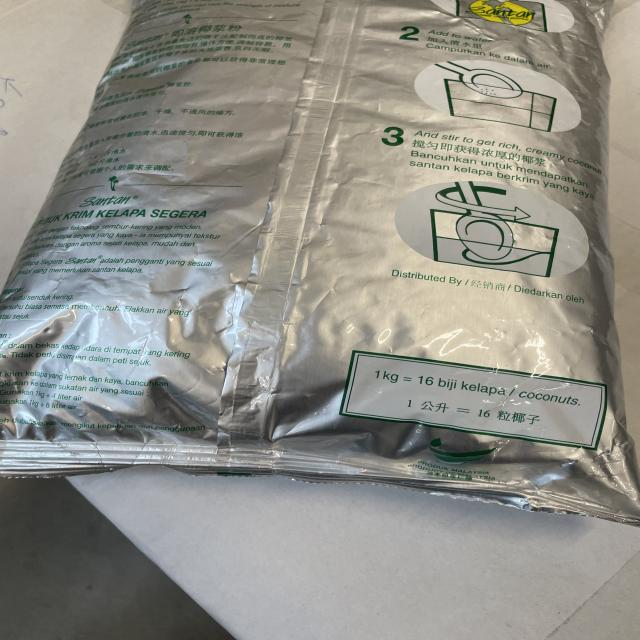object_name: (22, 2, 618, 493)
